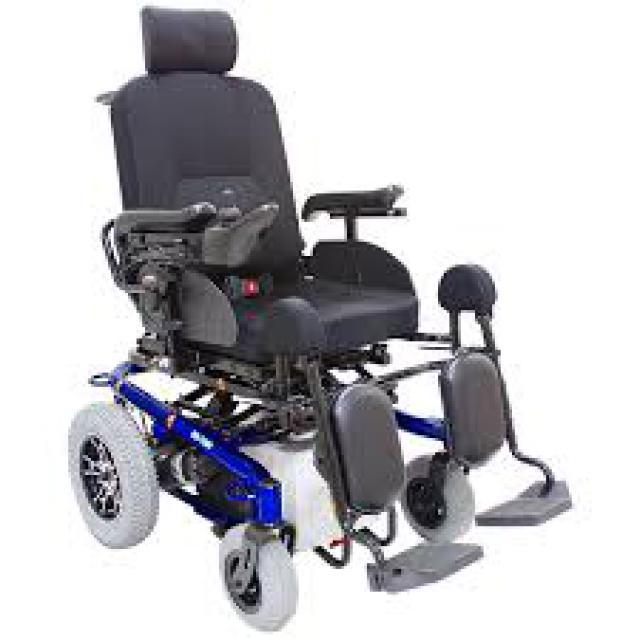wheelchair: (51, 2, 572, 634)
